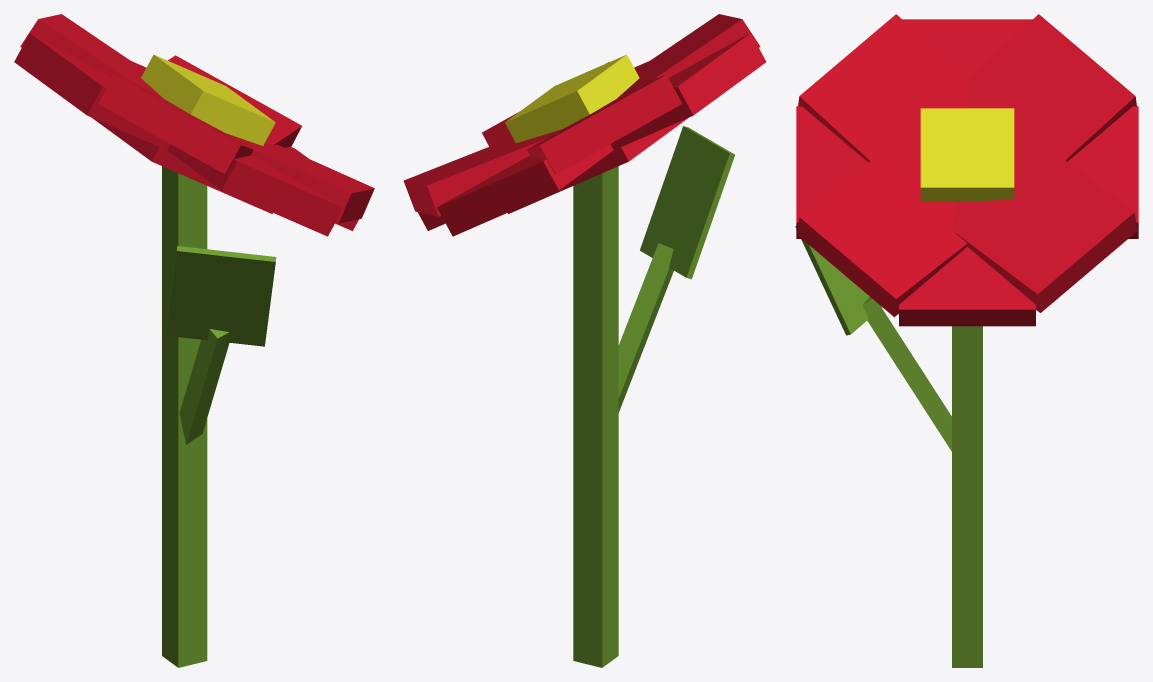
Rendered from redFlower.gltf.
The picture shows the model from 3 angles, left to right: view 1: azimuth 30°, elevation 25°; view 2: azimuth 150°, elevation 25°; view 3: azimuth 270°, elevation 25°; orthographic projection. The views are drawn at different scales.
Visible parts, largest first — view 1: 2f95a8cc-bbbc-db35-044c-f79740e91d66, 923728d6-7e14-abfe-4ef2-f1e9526024a1, 6e9d4138-4100-a9bb-bcc9-680ca79e0740, fb4f10db-031a-c53a-c5c2-0aac2ff49b2d, 76d5f1e0-da0c-5dad-d6c1-a25b473d68ca, 08eeee49-d1c8-8403-e501-237fbcf2336f, 70e2d5b8-fb36-3673-6394-4382a56b1b57, 5e36d5f6-5c8c-c5db-3223-4b51d02703ab, 4a72571e-9fbe-2ec7-f372-8be7525caeb4, 52942585-3229-d97f-2636-427560c31cca, 0cba9fad-0adc-b3a2-8696-2442c2e0c0a3; view 2: 2f95a8cc-bbbc-db35-044c-f79740e91d66, 923728d6-7e14-abfe-4ef2-f1e9526024a1, fb4f10db-031a-c53a-c5c2-0aac2ff49b2d, 5e36d5f6-5c8c-c5db-3223-4b51d02703ab, 08eeee49-d1c8-8403-e501-237fbcf2336f, 76d5f1e0-da0c-5dad-d6c1-a25b473d68ca, 0cba9fad-0adc-b3a2-8696-2442c2e0c0a3, 4a72571e-9fbe-2ec7-f372-8be7525caeb4, 6e9d4138-4100-a9bb-bcc9-680ca79e0740, 52942585-3229-d97f-2636-427560c31cca; view 3: 0cba9fad-0adc-b3a2-8696-2442c2e0c0a3, 70e2d5b8-fb36-3673-6394-4382a56b1b57, 6e9d4138-4100-a9bb-bcc9-680ca79e0740, 5e36d5f6-5c8c-c5db-3223-4b51d02703ab, 08eeee49-d1c8-8403-e501-237fbcf2336f, 2f95a8cc-bbbc-db35-044c-f79740e91d66, 76d5f1e0-da0c-5dad-d6c1-a25b473d68ca, fb4f10db-031a-c53a-c5c2-0aac2ff49b2d, 4a72571e-9fbe-2ec7-f372-8be7525caeb4, 923728d6-7e14-abfe-4ef2-f1e9526024a1.
Part boxes in pixels (bbox=[...]): 2f95a8cc-bbbc-db35-044c-f79740e91d66: bbox=[162, 166, 207, 667]; 923728d6-7e14-abfe-4ef2-f1e9526024a1: bbox=[165, 246, 276, 346]; 6e9d4138-4100-a9bb-bcc9-680ca79e0740: bbox=[98, 75, 253, 174]; fb4f10db-031a-c53a-c5c2-0aac2ff49b2d: bbox=[131, 61, 343, 236]; 76d5f1e0-da0c-5dad-d6c1-a25b473d68ca: bbox=[141, 54, 275, 145]; 08eeee49-d1c8-8403-e501-237fbcf2336f: bbox=[14, 33, 358, 230]; 70e2d5b8-fb36-3673-6394-4382a56b1b57: bbox=[226, 133, 374, 223]; 5e36d5f6-5c8c-c5db-3223-4b51d02703ab: bbox=[20, 14, 163, 98]; 4a72571e-9fbe-2ec7-f372-8be7525caeb4: bbox=[179, 329, 229, 444]; 52942585-3229-d97f-2636-427560c31cca: bbox=[92, 118, 272, 213]; 0cba9fad-0adc-b3a2-8696-2442c2e0c0a3: bbox=[168, 55, 301, 147]; 2f95a8cc-bbbc-db35-044c-f79740e91d66: bbox=[573, 166, 618, 667]; 923728d6-7e14-abfe-4ef2-f1e9526024a1: bbox=[640, 126, 734, 279]; fb4f10db-031a-c53a-c5c2-0aac2ff49b2d: bbox=[437, 61, 648, 236]; 5e36d5f6-5c8c-c5db-3223-4b51d02703ab: bbox=[527, 75, 682, 174]; 08eeee49-d1c8-8403-e501-237fbcf2336f: bbox=[418, 33, 766, 230]; 76d5f1e0-da0c-5dad-d6c1-a25b473d68ca: bbox=[505, 54, 639, 143]; 0cba9fad-0adc-b3a2-8696-2442c2e0c0a3: bbox=[403, 129, 561, 216]; 4a72571e-9fbe-2ec7-f372-8be7525caeb4: bbox=[618, 243, 673, 412]; 6e9d4138-4100-a9bb-bcc9-680ca79e0740: bbox=[617, 14, 760, 98]; 52942585-3229-d97f-2636-427560c31cca: bbox=[507, 118, 687, 213]; 0cba9fad-0adc-b3a2-8696-2442c2e0c0a3: bbox=[951, 147, 1137, 312]; 70e2d5b8-fb36-3673-6394-4382a56b1b57: bbox=[797, 161, 967, 317]; 6e9d4138-4100-a9bb-bcc9-680ca79e0740: bbox=[798, 14, 967, 162]; 5e36d5f6-5c8c-c5db-3223-4b51d02703ab: bbox=[967, 14, 1136, 161]; 08eeee49-d1c8-8403-e501-237fbcf2336f: bbox=[899, 19, 1035, 326]; 2f95a8cc-bbbc-db35-044c-f79740e91d66: bbox=[952, 326, 982, 667]; 76d5f1e0-da0c-5dad-d6c1-a25b473d68ca: bbox=[920, 108, 1014, 202]; fb4f10db-031a-c53a-c5c2-0aac2ff49b2d: bbox=[796, 106, 1138, 238]; 4a72571e-9fbe-2ec7-f372-8be7525caeb4: bbox=[862, 297, 951, 451]; 923728d6-7e14-abfe-4ef2-f1e9526024a1: bbox=[795, 226, 882, 335].
Bounding box in the file's own units: 0.6279 × 1.32 × 0.6895.
3 materials, 3 textured.
